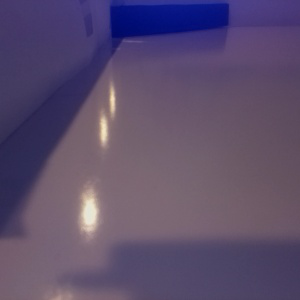zone: (109, 3, 232, 37)
